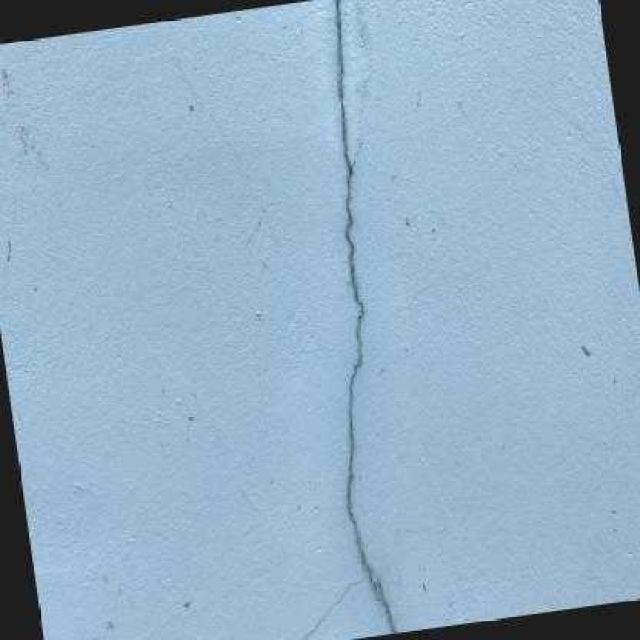D00: (328, 0, 397, 627)
